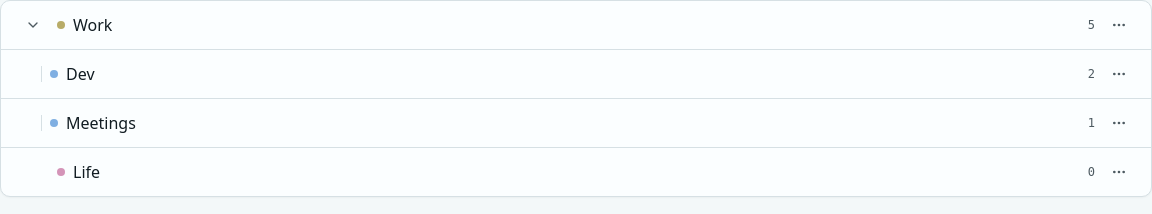
it: HierarchicalListCard 折叠/展开 › 折叠状态独立：收起 Work 的子级不影响 Life
Click the button named "Collapse sub-items" at [33, 25], box [17,9,49,41]
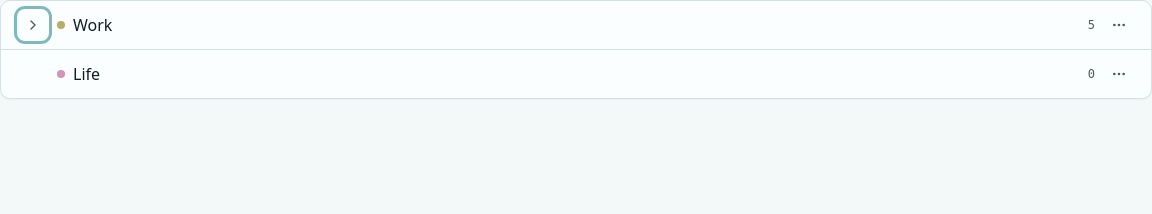
Check: the text "Life" is shown, box [73,62,100,86]
Check: the text "Dev" is gone
